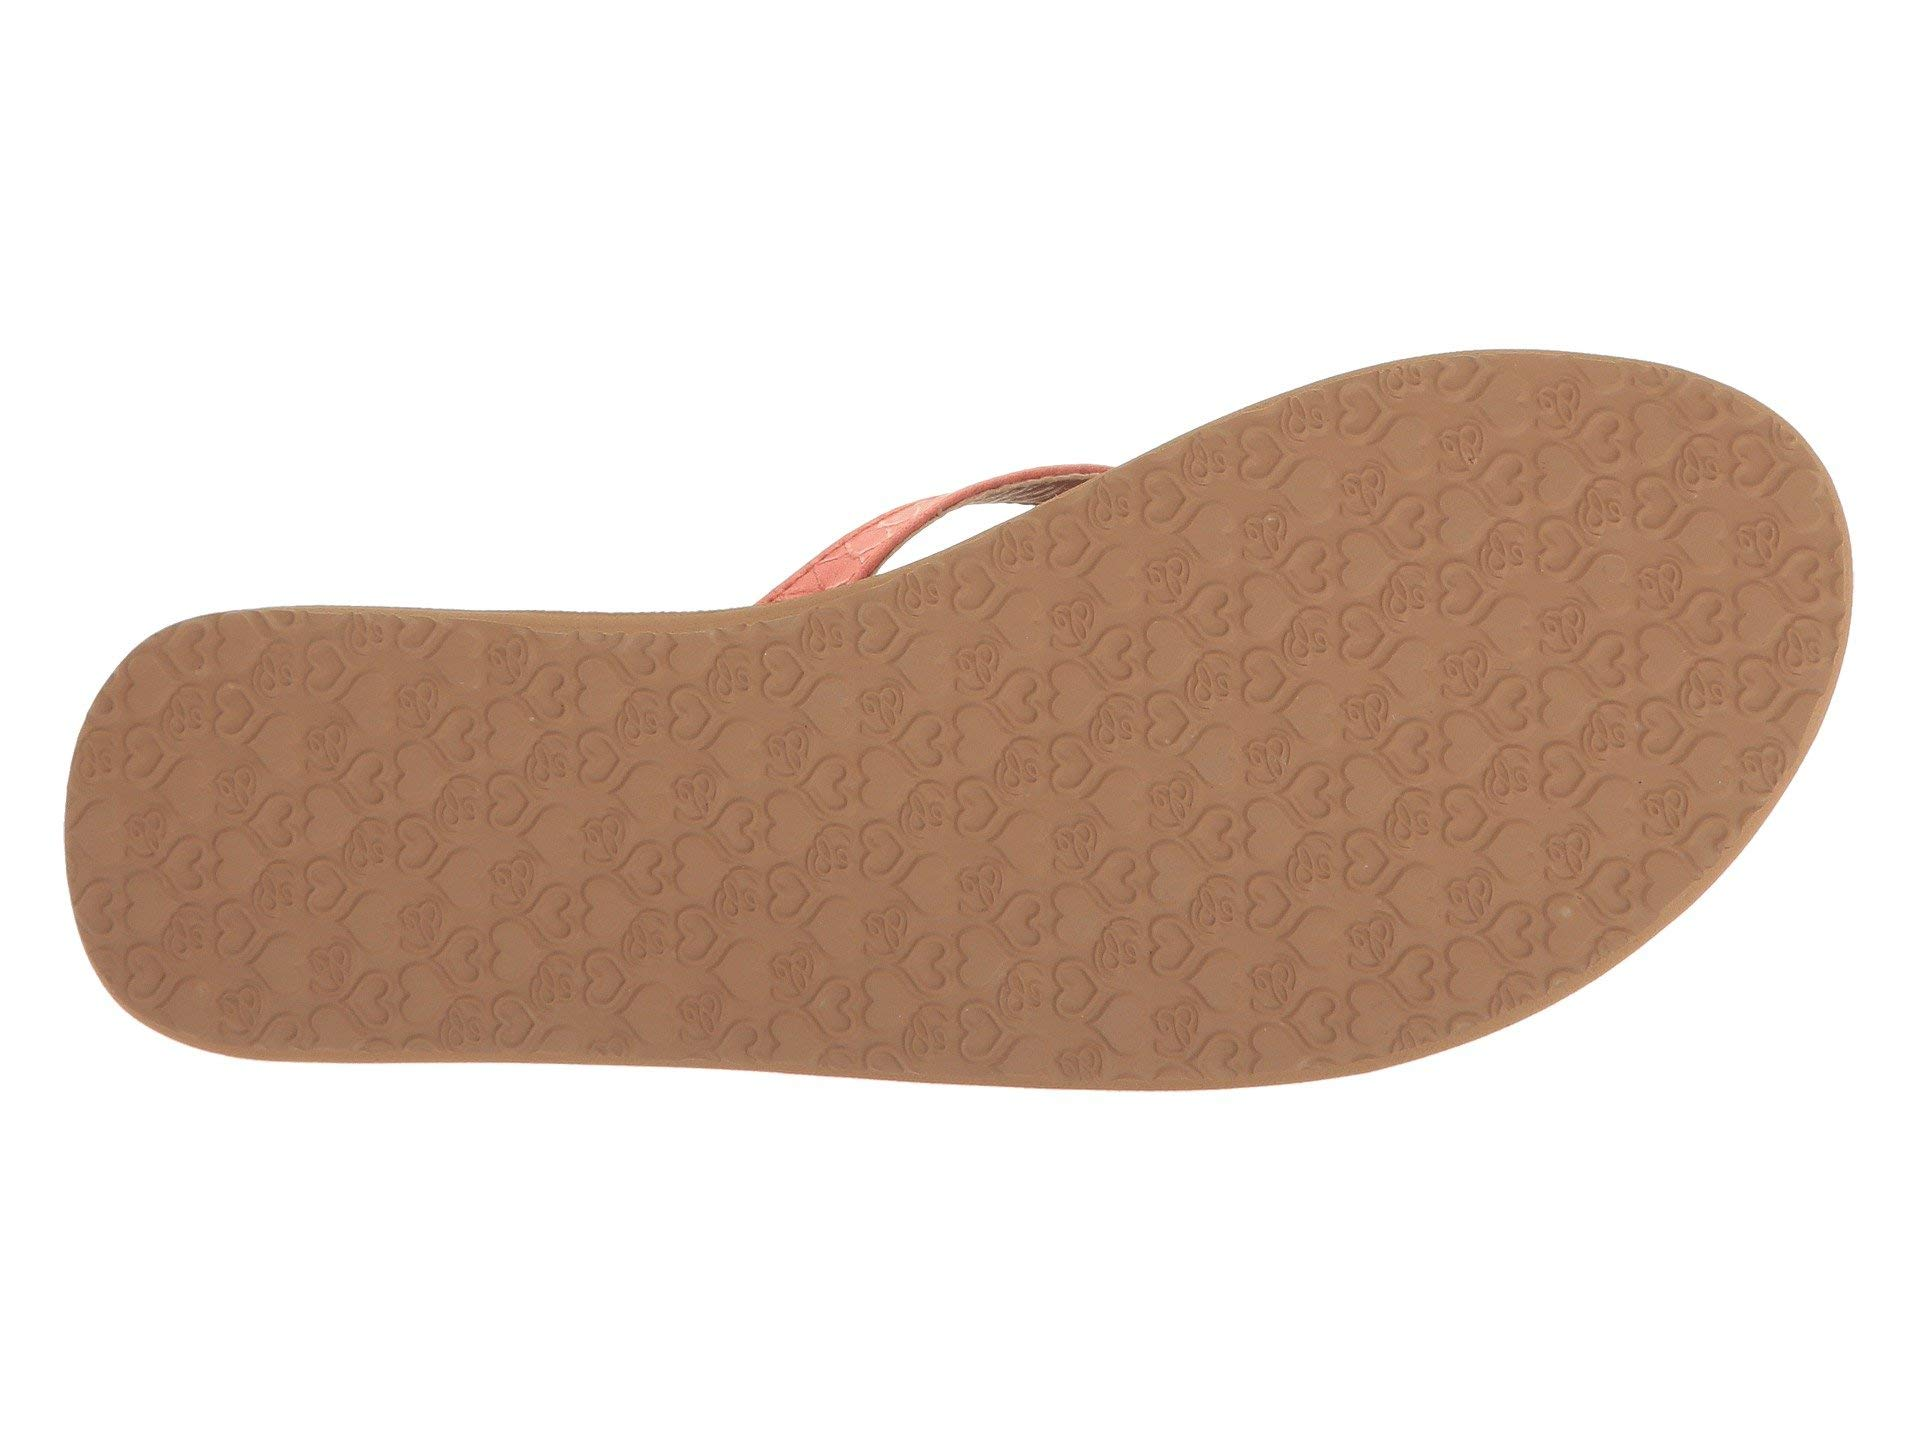chevron: (1014, 552, 1456, 992)
text: (1014, 552, 1456, 992)
